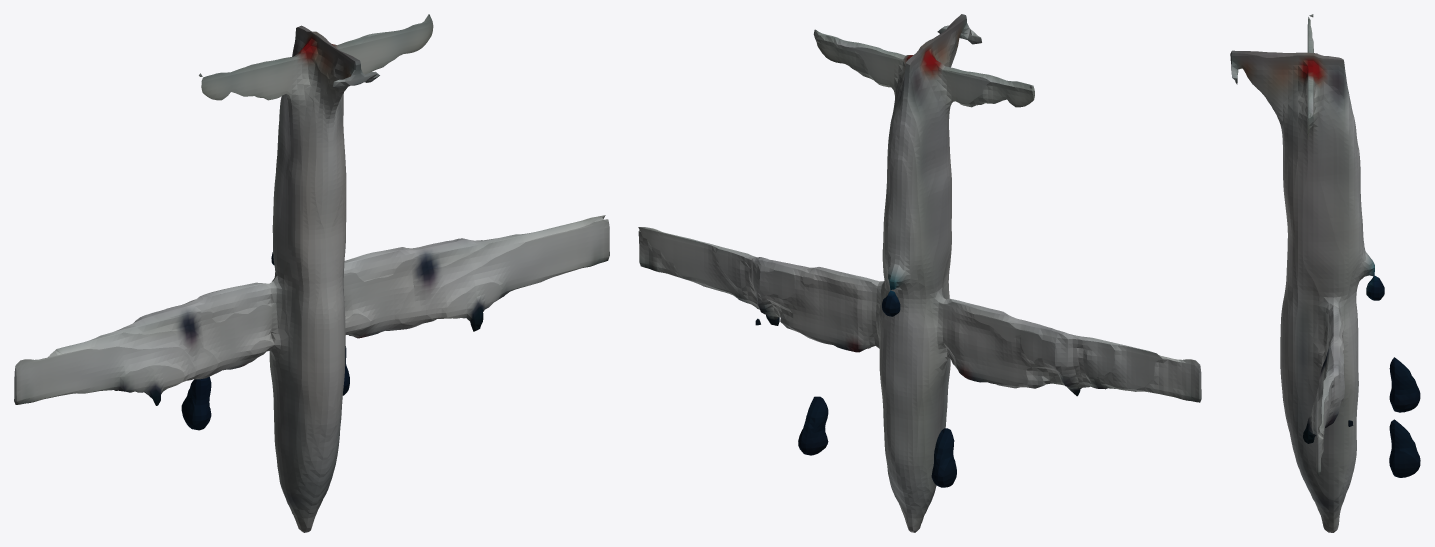
File: AirPlane_1749667949.obj
3 renders of one model, left to right at view 1: azimuth 30°, elevation 25°; view 2: azimuth 150°, elevation 25°; view 3: azimuth 270°, elevation 25°, orthographic. The views are drawn at different scales.
Bounding box in the file's own units: 1.98 × 1.62 × 0.5802.
